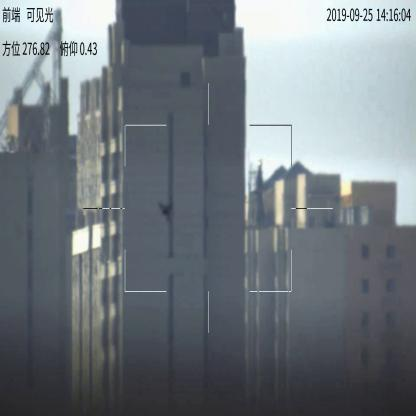uav: (157, 201, 174, 222)
